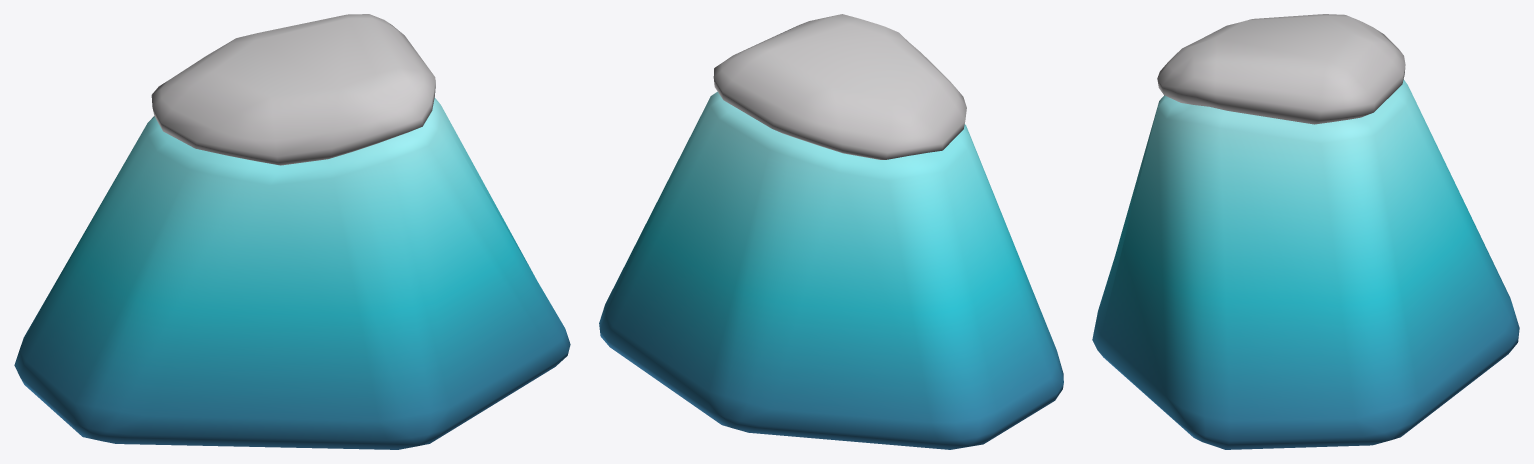
Rendered from Mound_01.fbx.
3 renders of one model, left to right at view 1: azimuth 30°, elevation 25°; view 2: azimuth 150°, elevation 25°; view 3: azimuth 270°, elevation 25°, orthographic. The views are drawn at different scales.
Parts seen in each view (by area): view 1: Mound_01; view 2: Mound_01; view 3: Mound_01.
Part boxes in pixels (bbox=[...]): Mound_01: bbox=[14, 14, 570, 449]; Mound_01: bbox=[599, 14, 1063, 449]; Mound_01: bbox=[1092, 14, 1519, 449].
Bounding box in the file's own units: 722 × 504 × 611.
